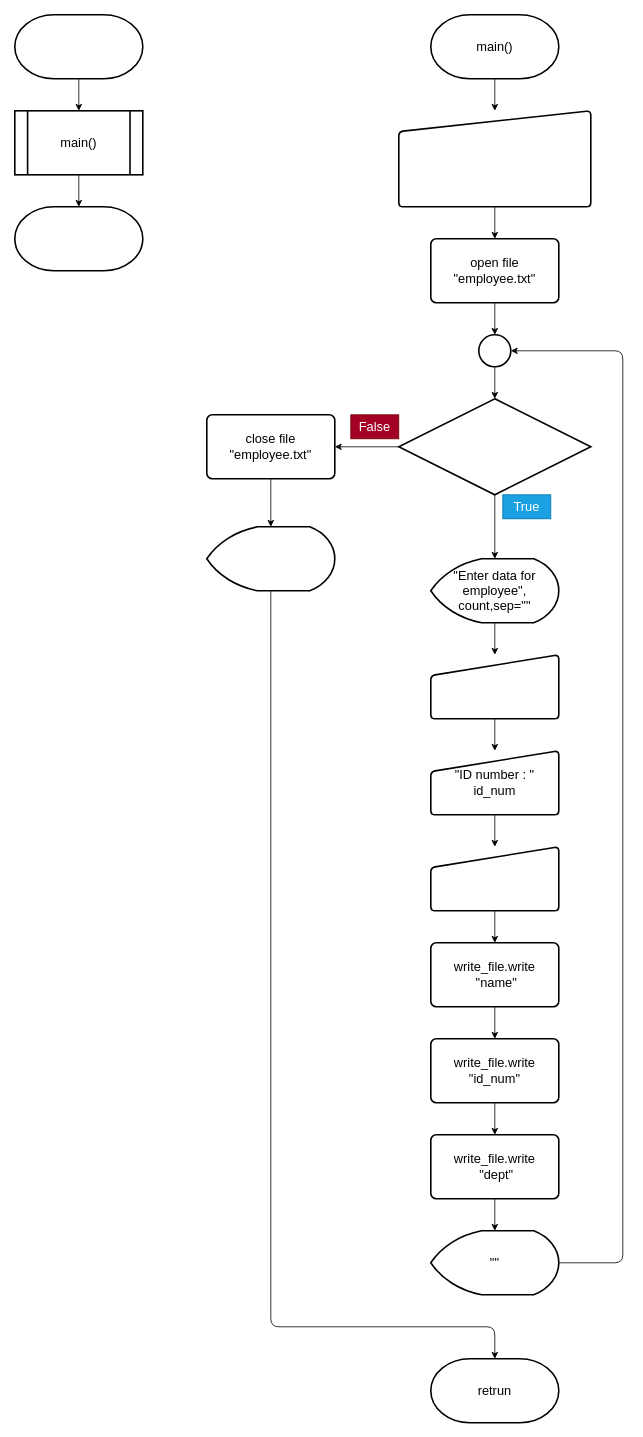
This 643x1437 diagram has some shape labels left out. The shapes that lost their labels are listed below. From the top down, each one's centre as x and y in pixels, then its label:
(x=78, y=46): Start
(x=494, y=158): "How many employee records do you want to create : " num_emps
(x=78, y=238): End
(x=494, y=446): count in range (1, num_emps + 1)
(x=270, y=558): "Employee records written to employees.txt"
(x=494, y=686): "Name : " name
(x=494, y=878): "Department :" dept
